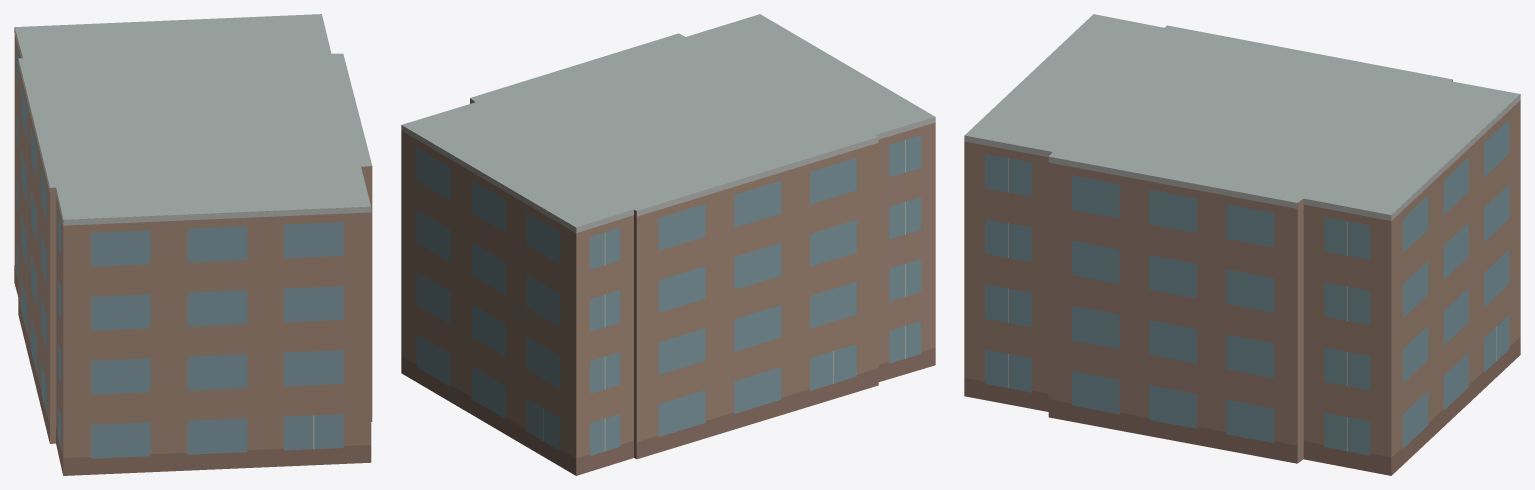
File: survey-upis-32977956.glb
3 views of the same model, side by side, from view 1: azimuth 30°, elevation 25°; view 2: azimuth 150°, elevation 25°; view 3: azimuth 270°, elevation 25° (orthographic). The views are drawn at different scales.
Parts seen in each view (by area): view 1: survey-upis-32977956.tmp; view 2: survey-upis-32977956.tmp; view 3: survey-upis-32977956.tmp.
Part boxes in pixels (x1=…): survey-upis-32977956.tmp: x1=14, y1=14, x2=372, y2=475; survey-upis-32977956.tmp: x1=401, y1=14, x2=935, y2=475; survey-upis-32977956.tmp: x1=964, y1=14, x2=1520, y2=475.
Size of the model in its own units: 17.71 by 10.7 by 20.7.
